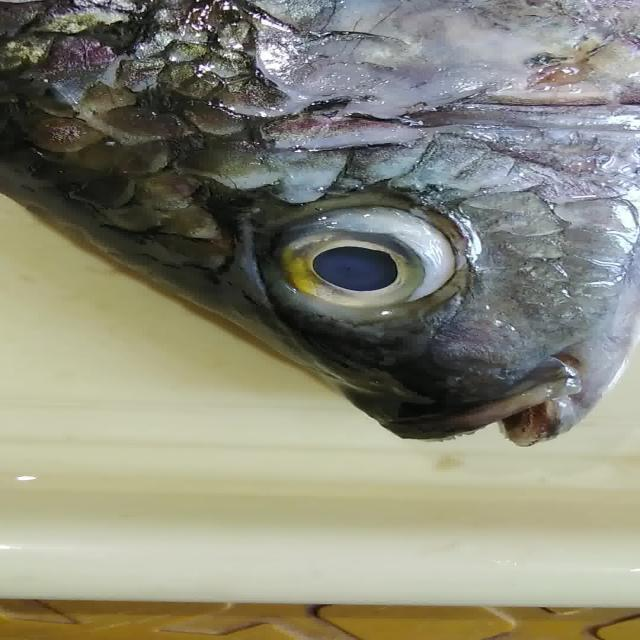Fresh: (190, 174, 518, 334)
